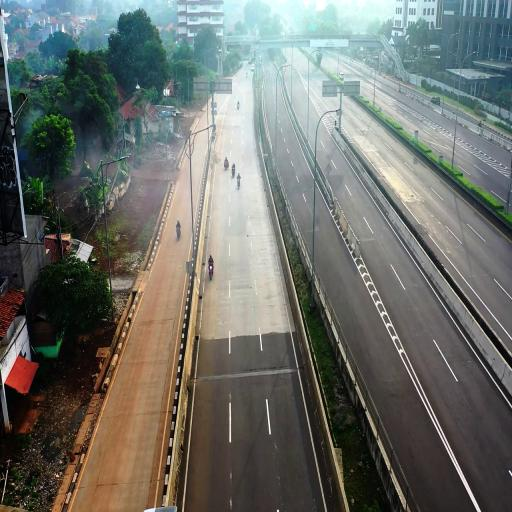vehicle: (209, 256, 214, 279), (176, 220, 180, 240), (232, 163, 236, 177), (224, 158, 229, 169), (237, 173, 240, 188), (238, 102, 239, 109)
